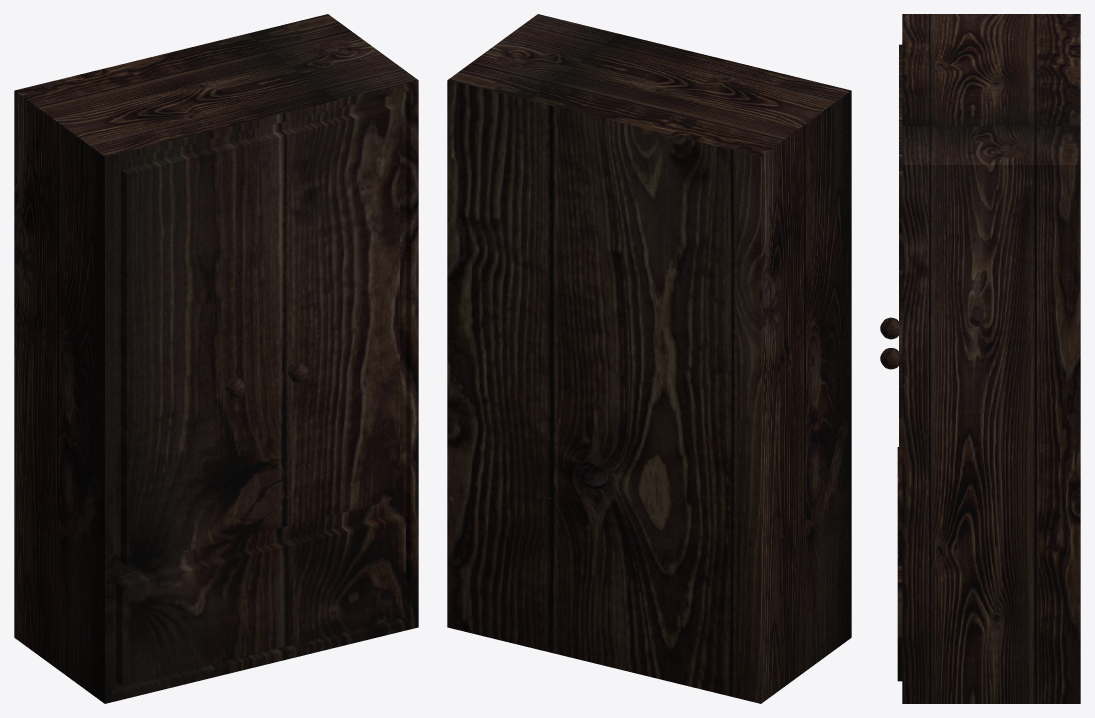
The model's file is wardrobe.glb.
3 renders of one model, left to right at view 1: azimuth 30°, elevation 25°; view 2: azimuth 150°, elevation 25°; view 3: azimuth 270°, elevation 25°, orthographic.
Parts seen in each view (by area): view 1: Cube; view 2: Cube; view 3: Cube.
Boxes of the visible parts, <box> form: Cube: <box>14,14,418,703</box>; Cube: <box>447,14,851,703</box>; Cube: <box>880,14,1080,703</box>.
Size of the model in its own units: 1.2 by 2 by 0.674.
Materials: 1 (1 with a texture image).
